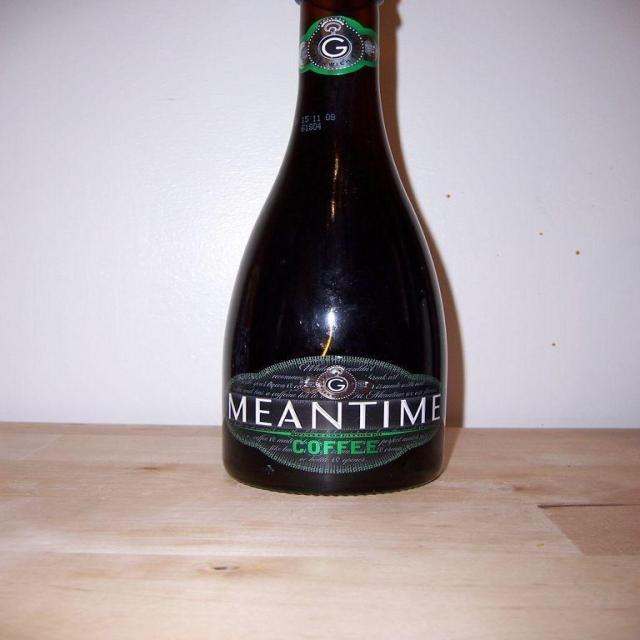bottle-glass: (216, 1, 472, 494)
